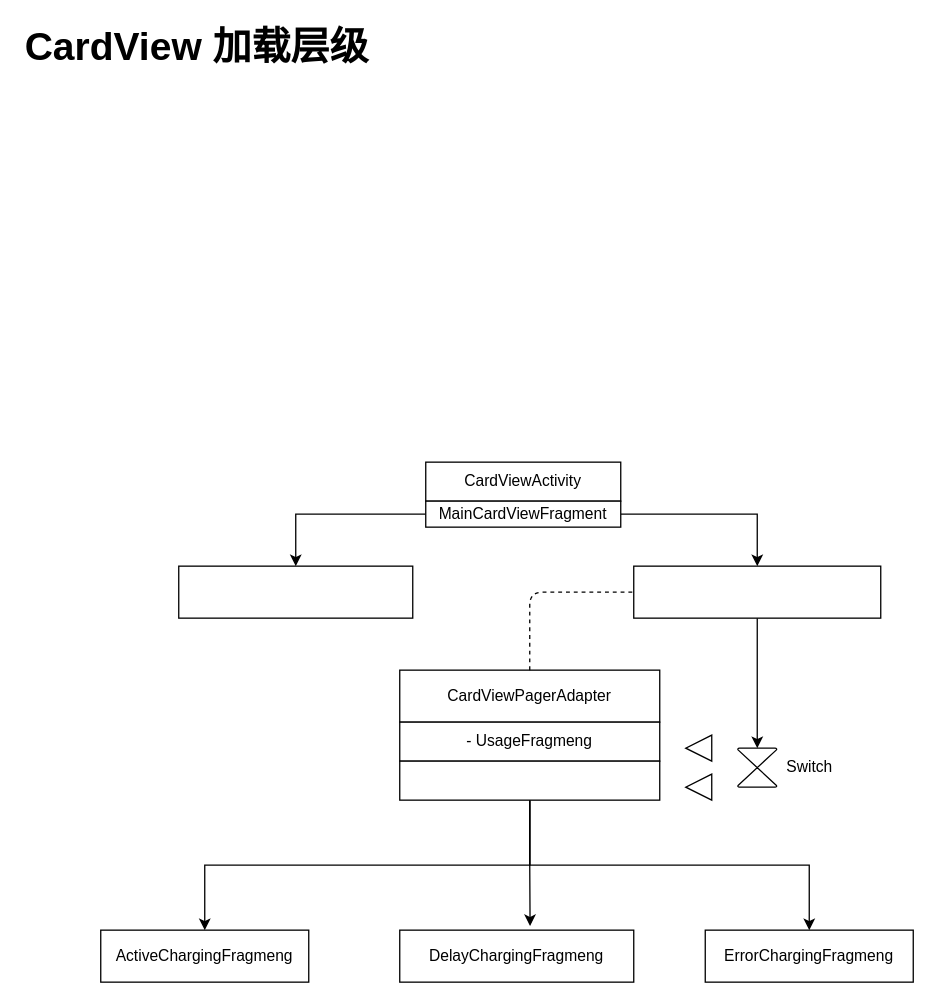
This 936x1005 diagram has some shape labels left out. The centre of each missing label's shape, as x and y in pixels:
"- ChargingFragment" goes at [529,780].
"CardViewFragment" goes at [756,591].
"ErrorCardViewFragment" goes at [295,591].
